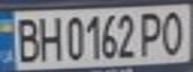0: (63, 12, 84, 61)
1: (81, 11, 103, 61)
2: (115, 10, 139, 60)
6: (100, 11, 121, 61)
B: (9, 14, 42, 63)
H: (36, 12, 63, 62)
O: (157, 7, 190, 56)
P: (136, 8, 166, 57)
